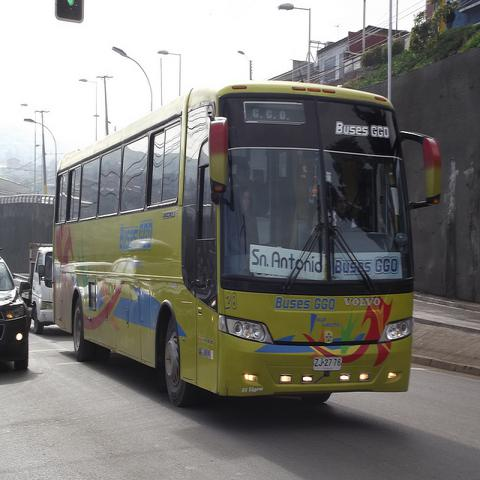bus: (53, 81, 443, 410)
car: (1, 259, 30, 372)
truck: (13, 243, 55, 336)
